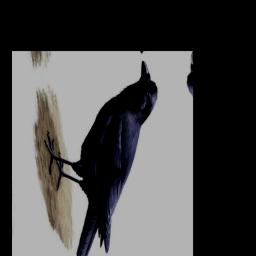Crow: (35, 58, 178, 256)
